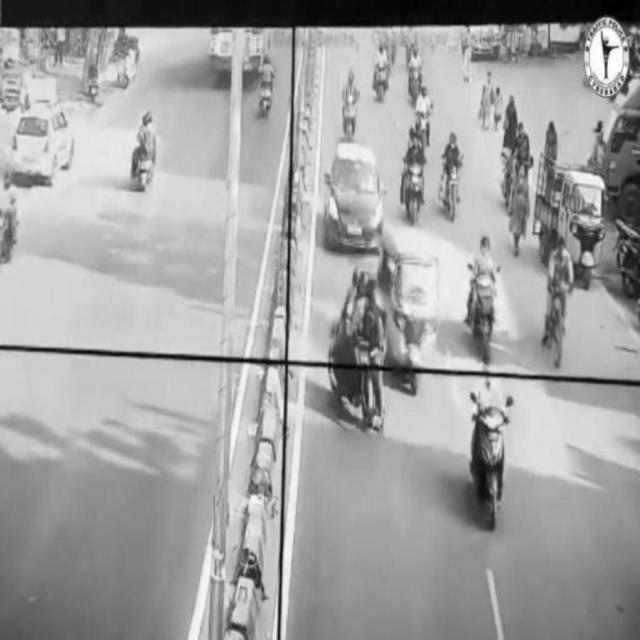accident: (330, 261, 391, 436)
person: (510, 160, 528, 253)
vehicle: (383, 220, 440, 400), (538, 149, 608, 283), (469, 362, 510, 537), (330, 141, 386, 255), (543, 241, 579, 369), (13, 104, 73, 180), (472, 239, 502, 357), (399, 128, 426, 222), (132, 114, 158, 190), (443, 136, 463, 222), (341, 71, 361, 141), (259, 55, 276, 123)
